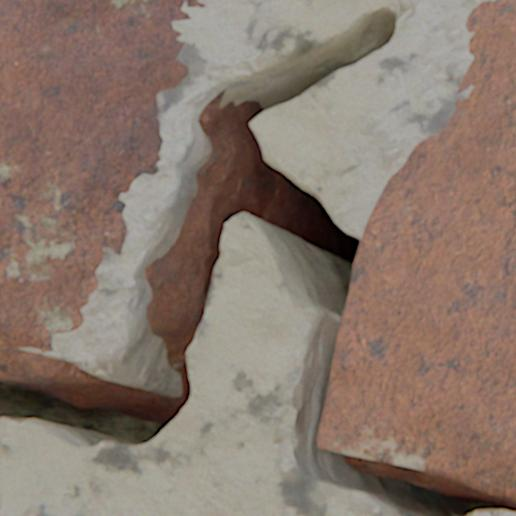brick: (318, 0, 515, 486), (0, 0, 205, 367)
crack: (0, 1, 515, 515)
